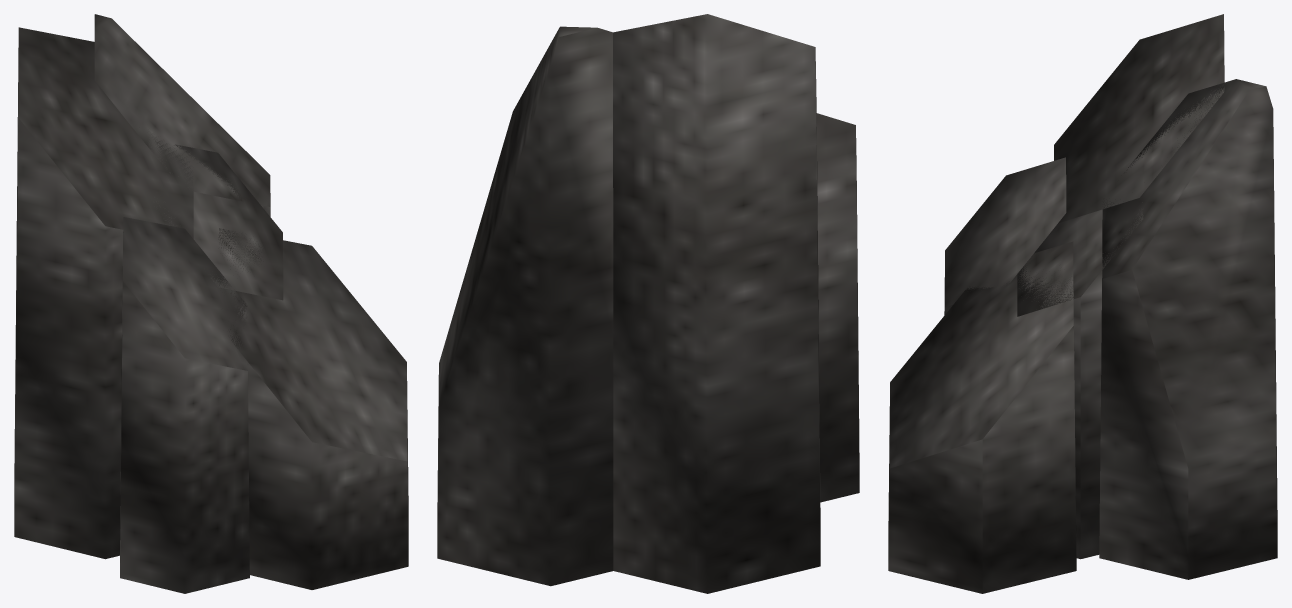
File: boulder_2.glb
3 renders of one model, left to right at view 1: azimuth 30°, elevation 25°; view 2: azimuth 150°, elevation 25°; view 3: azimuth 270°, elevation 25°, orthographic. The views are drawn at different scales.
Parts seen in each view (by area): view 1: boulder_2; view 2: boulder_2; view 3: boulder_2.
Boxes of the visible parts, left/top/right/bottom form: boulder_2: left=14, top=14, right=408, bottom=593; boulder_2: left=437, top=14, right=859, bottom=593; boulder_2: left=888, top=14, right=1277, bottom=593.
Size of the model in its own units: 1.77 by 2.51 by 1.95.
1 material, 1 textured.
